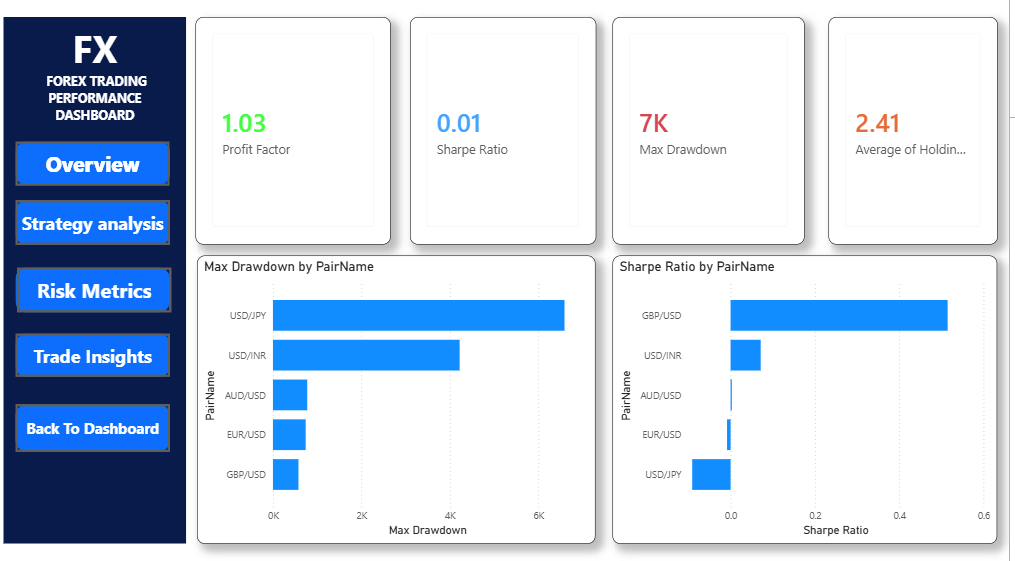

The dashboard page shown, as its layout file describes it:
{"tool":"powerbi","page":{"name":"Risk Metrics","canvas":[1280,720],"ordinal":2},"visuals":[{"type":"textbox","box":[13.3,30,230,663.3],"z":0},{"type":"shape","box":[28.3,187.1,194.6,54.8],"z":1000},{"type":"actionButton","box":[28.8,186.5,194.2,55.8],"z":2000},{"type":"shape","box":[28.3,260.8,194.6,56.7],"z":3000},{"type":"actionButton","box":[28.3,260.8,194.6,56.7],"z":4000},{"type":"shape","box":[28.3,345.8,194.6,56.7],"z":5000},{"type":"actionButton","box":[28.3,345.8,196.5,56.7],"z":6000},{"type":"shape","box":[28.3,429,194.6,54.8],"z":7000},{"type":"actionButton","box":[28.3,429,194.6,54.8],"z":8000},{"type":"shape","box":[28.3,517.8,194.6,60.5],"z":9000},{"type":"actionButton","box":[28.3,517.8,194.6,60.5],"z":10000},{"type":"textbox","box":[275.5,473,195,150],"z":11000},{"type":"cardVisual","fields":{"Data":["trade_log.Profit Factor"]},"box":[255.8,30.8,246.2,286.5],"z":12000},{"type":"cardVisual","fields":{"Data":["trade_log.Sharpe Ratio"]},"box":[525,30.8,234.6,286.5],"z":13000},{"type":"cardVisual","fields":{"Data":["trade_log.Max Drawdown"]},"box":[780.8,30.8,242.3,286.5],"z":14000},{"type":"cardVisual","fields":{"Data":["Avg(trade_log.HoldingDays)"]},"box":[1051.9,30.8,213.5,286.5],"z":15000},{"type":"clusteredBarChart","fields":{"Category":["trade_log.PairName"],"Y":["trade_log.Max Drawdown"]},"box":[256.5,330.4,502.2,363],"z":16000},{"type":"clusteredBarChart","fields":{"Category":["trade_log.PairName"],"Y":["trade_log.Sharpe Ratio"]},"box":[780.4,330.4,484.8,363],"z":17000}]}

Visuals, with their boxes in screenshot pixels (x1, y1, x2, y2), scaled from the page's 1280x720 canvas onto the 1015x561 screenshot:
textbox: (left=11, top=23, right=193, bottom=540)
shape: (left=22, top=146, right=177, bottom=188)
actionButton: (left=23, top=145, right=177, bottom=189)
shape: (left=22, top=203, right=177, bottom=247)
actionButton: (left=22, top=203, right=177, bottom=247)
shape: (left=22, top=269, right=177, bottom=314)
actionButton: (left=22, top=269, right=178, bottom=314)
shape: (left=22, top=334, right=177, bottom=377)
actionButton: (left=22, top=334, right=177, bottom=377)
shape: (left=22, top=403, right=177, bottom=451)
actionButton: (left=22, top=403, right=177, bottom=451)
textbox: (left=218, top=369, right=373, bottom=485)
cardVisual - trade_log.Profit Factor: (left=203, top=24, right=398, bottom=247)
cardVisual - trade_log.Sharpe Ratio: (left=416, top=24, right=602, bottom=247)
cardVisual - trade_log.Max Drawdown: (left=619, top=24, right=811, bottom=247)
cardVisual - Avg(trade_log.HoldingDays): (left=834, top=24, right=1003, bottom=247)
clusteredBarChart - trade_log.PairName x trade_log.Max Drawdown: (left=203, top=257, right=602, bottom=540)
clusteredBarChart - trade_log.PairName x trade_log.Sharpe Ratio: (left=619, top=257, right=1003, bottom=540)
